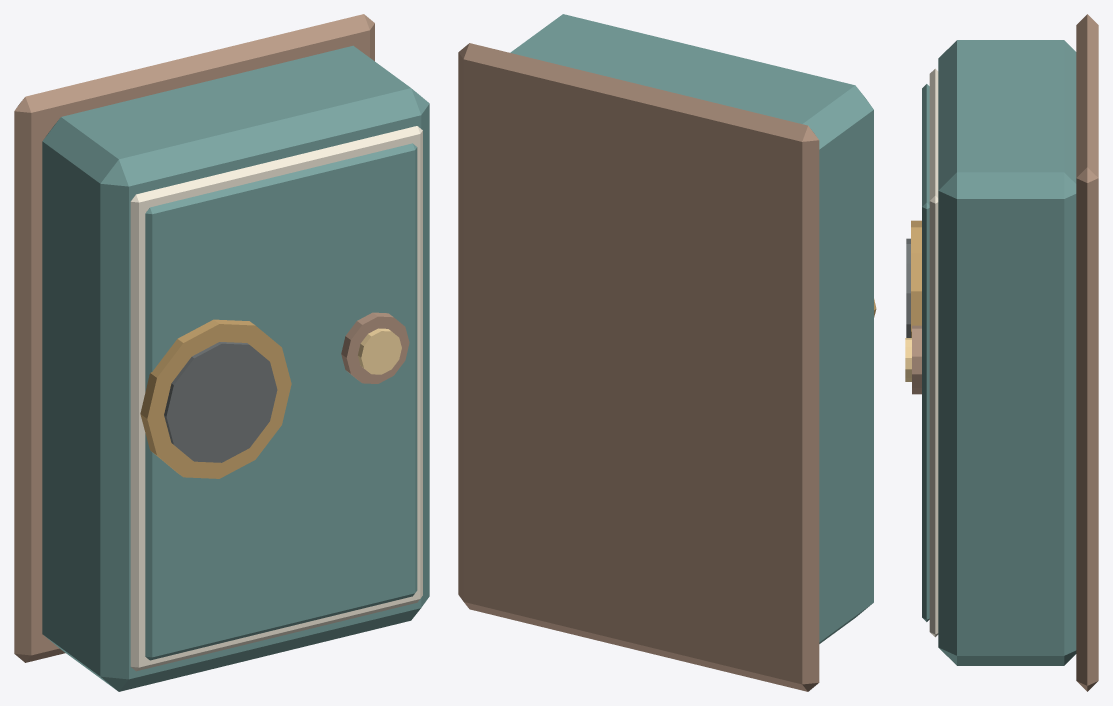
The model's file is P14_solid_repair_candidate.glb.
The picture shows the model from 3 angles, left to right: view 1: azimuth 30°, elevation 25°; view 2: azimuth 150°, elevation 25°; view 3: azimuth 270°, elevation 25°; orthographic projection. The views are drawn at different scales.
Visible parts, largest first — view 1: P14_Teal_Face, P14_Teal_Cabinet, P14_Walnut_Wall_Backplate, P14_Cream_Front_Rim, P14_Socket_Recess, P14_Socket_Rim, P14_Status_Bezel, P14_Status_Insert; view 2: P14_Walnut_Wall_Backplate, P14_Teal_Cabinet; view 3: P14_Teal_Cabinet, P14_Walnut_Wall_Backplate, P14_Cream_Front_Rim, P14_Teal_Face, P14_Socket_Rim, P14_Status_Bezel, P14_Socket_Recess.
Part boxes in pixels (x1=…): P14_Teal_Face: x1=145, y1=143, x2=417, y2=660; P14_Teal_Cabinet: x1=42, y1=45, x2=429, y2=691; P14_Walnut_Wall_Backplate: x1=14, y1=14, x2=374, y2=662; P14_Cream_Front_Rim: x1=130, y1=126, x2=422, y2=671; P14_Socket_Recess: x1=164, y1=342, x2=277, y2=462; P14_Socket_Rim: x1=140, y1=319, x2=291, y2=478; P14_Status_Bezel: x1=341, y1=312, x2=409, y2=383; P14_Status_Insert: x1=358, y1=328, x2=401, y2=374; P14_Walnut_Wall_Backplate: x1=458, y1=43, x2=819, y2=691; P14_Teal_Cabinet: x1=510, y1=14, x2=873, y2=643; P14_Teal_Cabinet: x1=938, y1=40, x2=1076, y2=665; P14_Walnut_Wall_Backplate: x1=1076, y1=14, x2=1098, y2=691; P14_Cream_Front_Rim: x1=929, y1=68, x2=938, y2=637; P14_Teal_Face: x1=922, y1=84, x2=929, y2=621; P14_Socket_Rim: x1=911, y1=220, x2=921, y2=337; P14_Status_Bezel: x1=912, y1=325, x2=921, y2=394; P14_Socket_Recess: x1=906, y1=238, x2=910, y2=337.
Bounding box in the file's own units: 2 × 3 × 1.
